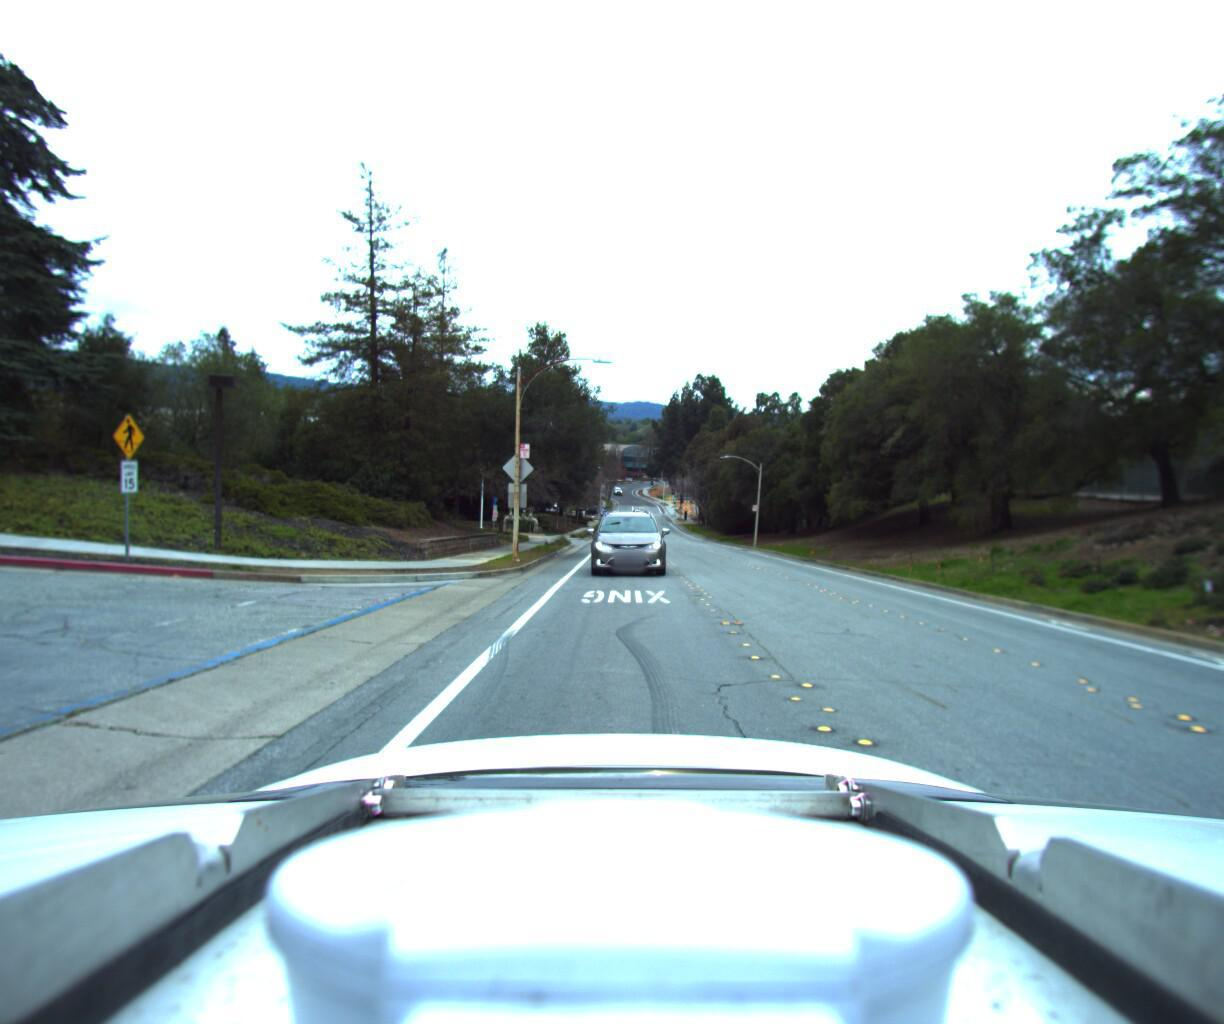car: (584, 494, 665, 580)
